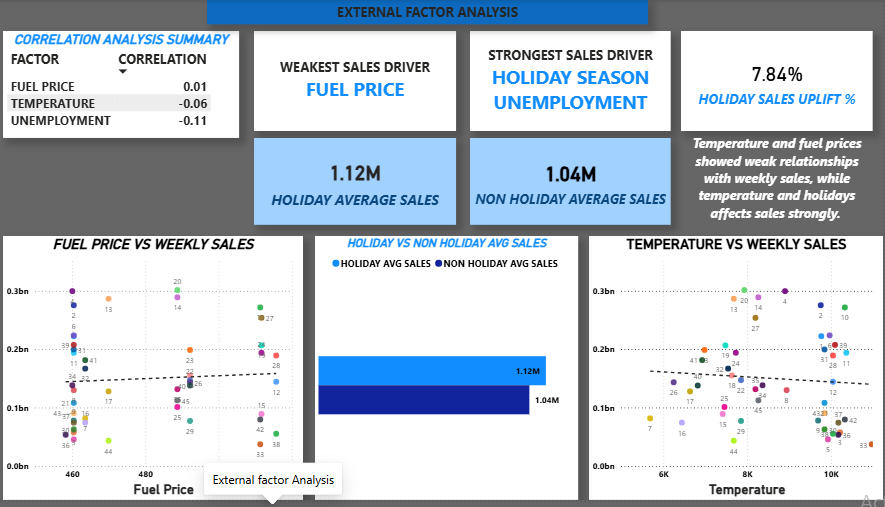

Layout of this report page (visuals, bound fields, positions):
{"tool":"powerbi","page":{"name":"External factor Analysis","canvas":[1280,720],"ordinal":2},"visuals":[{"type":"scatterChart","title":"FUEL PRICE VS WEEKLY SALES","fields":{"Y":["Sum(Walmart.Weekly_Sales)"],"Category":["Walmart.Store"],"X":["Sum(Walmart.Fuel_Price)"]},"box":[11.5,339.8,432,380.2],"z":0},{"type":"scatterChart","title":"TEMPERATURE VS WEEKLY SALES","fields":{"Y":["Sum(Walmart.Weekly_Sales)"],"X":["Sum(Walmart.Temperature)"],"Category":["Walmart.Store"]},"box":[855.4,339.8,424.8,380.2],"z":1000},{"type":"tableEx","title":"CORRELATION ANALYSIS SUMMARY","fields":{"Values":["Correlation_Table.FACTOR","Sum(Correlation_Table.CORRELATION)"]},"box":[11.5,44.6,339.8,154.1],"z":2000},{"type":"textbox","box":[373,44.6,290.9,144],"z":3000},{"type":"textbox","box":[684,44.6,289.4,144],"z":4000},{"type":"card","fields":{"Values":["Walmart.holiday sales uplift %"]},"box":[987.8,44.6,276.5,144],"z":5000},{"type":"card","fields":{"Values":["Walmart.Holiday average"]},"box":[373,198.7,290.9,125.3],"z":6000},{"type":"card","fields":{"Values":["Walmart.Non Holiday Average"]},"box":[684,198.7,289.4,125.3],"z":7000},{"type":"clusteredBarChart","title":"HOLIDAY VS NON HOLIDAY AVG SALES","fields":{"Y":["Walmart.Holiday average","Walmart.Non Holiday Average"]},"box":[460.8,339.8,378.7,380.2],"z":8000},{"type":"textbox","box":[987.8,188.6,276.5,151.2],"z":9000},{"type":"textbox","box":[305.3,0,635,34.6],"z":10000}]}

Visuals, with their boxes in screenshot pixels (x1, y1, x2, y2), scaled from the page's 1280x720 canvas onto the 885x507 screenshot:
"FUEL PRICE VS WEEKLY SALES" scatterChart: {"x1": 8, "y1": 239, "x2": 307, "y2": 506}
"TEMPERATURE VS WEEKLY SALES" scatterChart: {"x1": 591, "y1": 239, "x2": 884, "y2": 506}
"CORRELATION ANALYSIS SUMMARY" tableEx: {"x1": 8, "y1": 31, "x2": 243, "y2": 140}
textbox: {"x1": 258, "y1": 31, "x2": 459, "y2": 133}
textbox: {"x1": 473, "y1": 31, "x2": 673, "y2": 133}
card - Walmart.holiday sales uplift %: {"x1": 683, "y1": 31, "x2": 874, "y2": 133}
card - Walmart.Holiday average: {"x1": 258, "y1": 140, "x2": 459, "y2": 228}
card - Walmart.Non Holiday Average: {"x1": 473, "y1": 140, "x2": 673, "y2": 228}
"HOLIDAY VS NON HOLIDAY AVG SALES" clusteredBarChart: {"x1": 319, "y1": 239, "x2": 580, "y2": 506}
textbox: {"x1": 683, "y1": 133, "x2": 874, "y2": 239}
textbox: {"x1": 211, "y1": 0, "x2": 650, "y2": 24}
